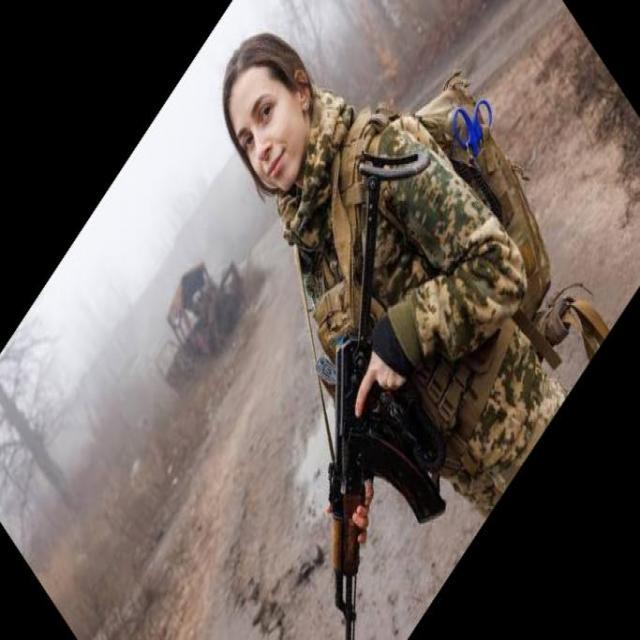weapon: (326, 149, 431, 640)
